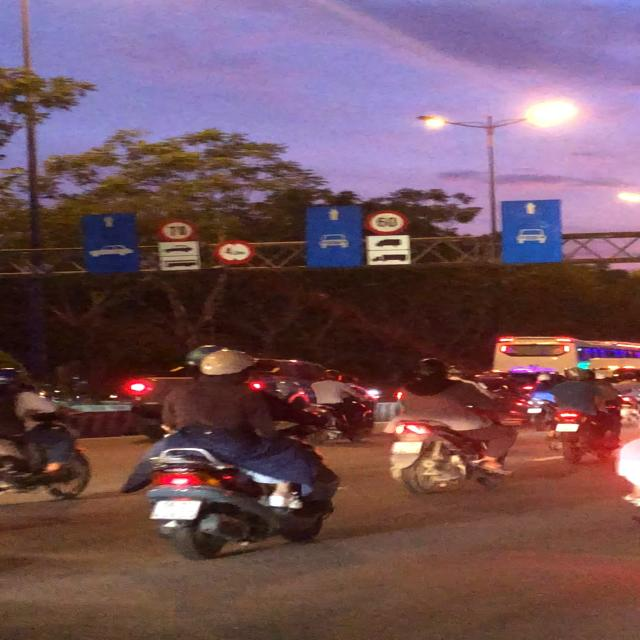Bien bao toc do toi da cho phep: (361, 206, 409, 237), (154, 217, 197, 243)
